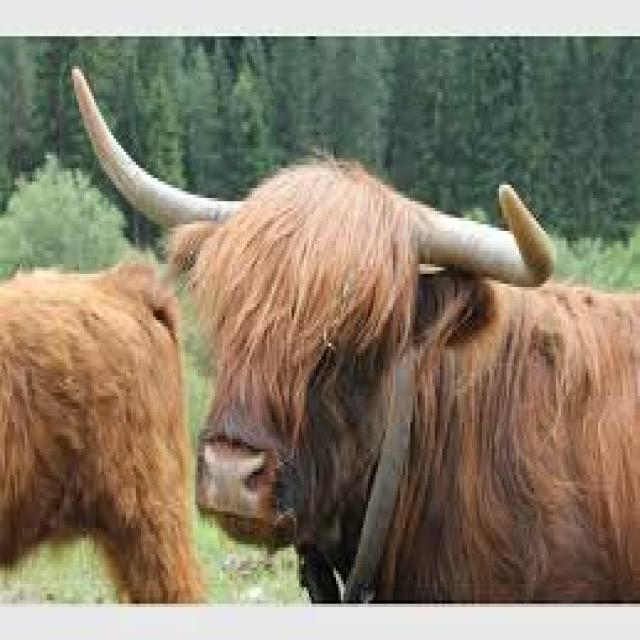Ox: (1, 61, 428, 603), (182, 123, 640, 605)
